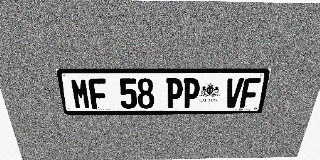5: (119, 78, 137, 109)
8: (137, 78, 154, 109)
F: (239, 78, 261, 108), (88, 78, 108, 109)
M: (70, 78, 91, 109)
P: (182, 78, 200, 108), (166, 78, 183, 108)
V: (223, 78, 244, 108)
